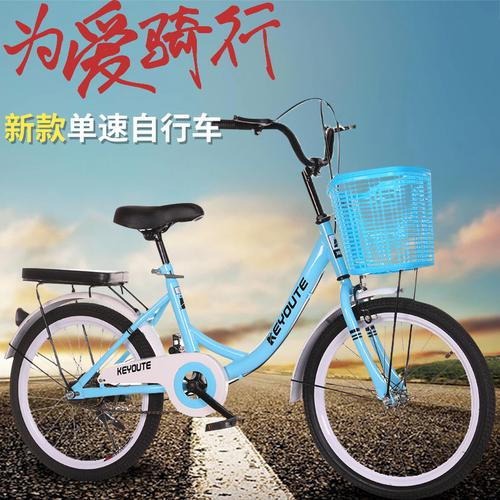单车: (7, 96, 500, 494)
